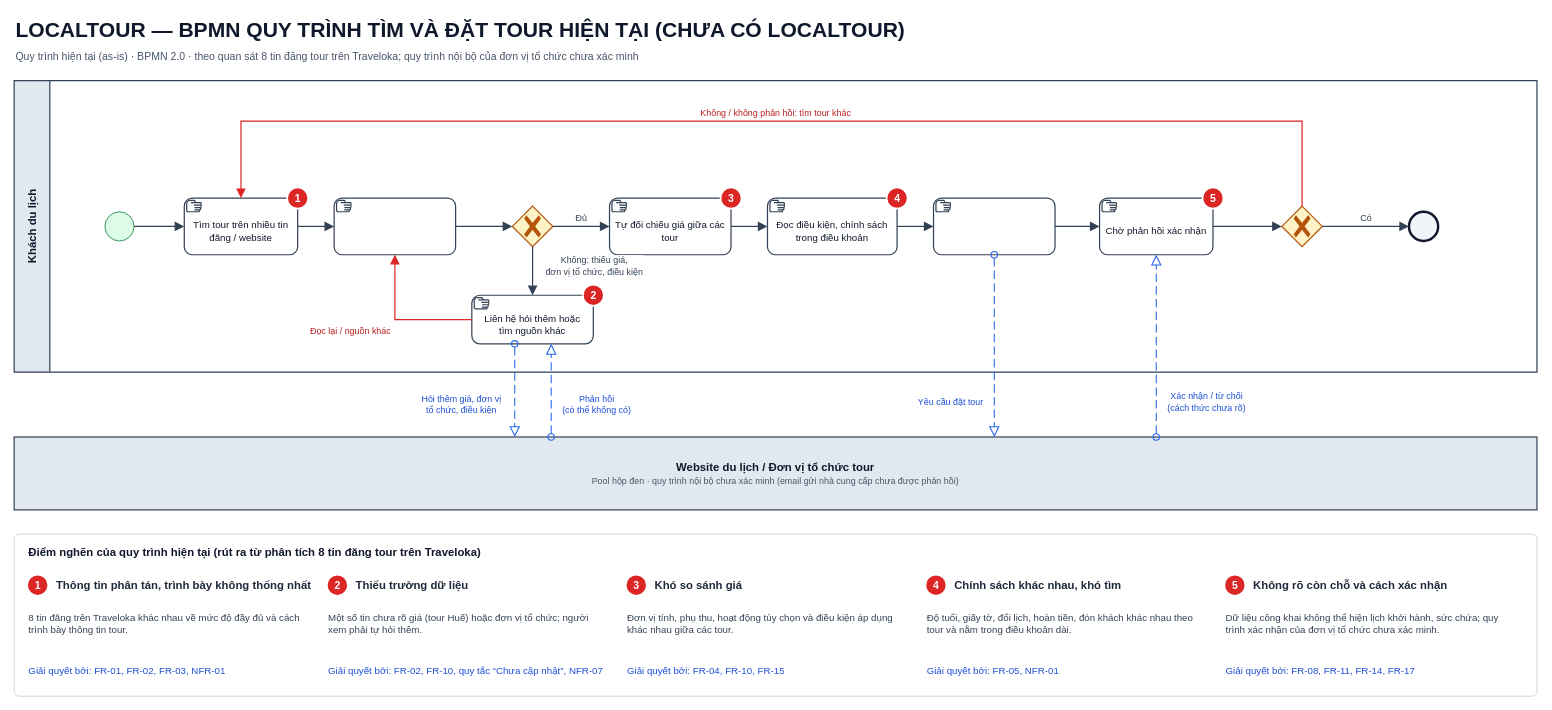
The diagram is 1552 pixels wide and 710 high, and some of its shapes have lost their labels. The shapes that lost their labels are listed below. From the top down, each one's centre as x and y in pixels, then its label:
(x=119, y=226): Có nhu cầu đi tour
(x=394, y=226): Đọc tin: lịch trình, giá, dịch vụ
(x=532, y=226): Tin đăng đủ thông tin?
(x=994, y=226): Đặt tour qua kênh của nơi đăng tin
(x=1302, y=226): Được xác nhận?
(x=1423, y=226): Đã đặt tour
